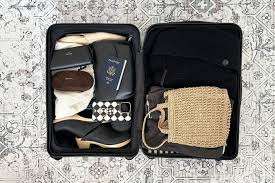suitcase: (42, 20, 246, 162)
